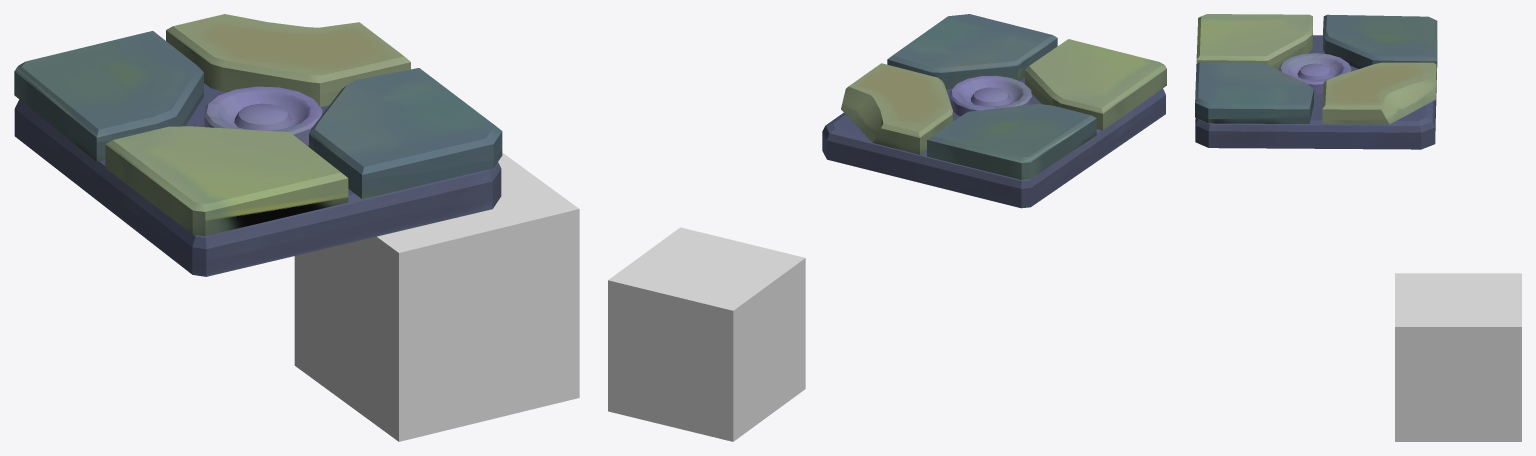
Rendered from battlescence-2-floor002.fbx.
The picture shows the model from 3 angles, left to right: view 1: azimuth 30°, elevation 25°; view 2: azimuth 150°, elevation 25°; view 3: azimuth 270°, elevation 25°; orthographic projection. The views are drawn at different scales.
Visible parts, largest first — view 1: Cube.068, battlescence-2-floor002; view 2: Cube.068, battlescence-2-floor002; view 3: Cube.068, battlescence-2-floor002.
Boxes of the visible parts, x1,y1,x2,y2 form: Cube.068: (14, 14, 502, 276); battlescence-2-floor002: (294, 152, 579, 441); Cube.068: (822, 14, 1166, 208); battlescence-2-floor002: (608, 227, 805, 441); Cube.068: (1195, 14, 1437, 149); battlescence-2-floor002: (1395, 273, 1521, 441).
Size of the model in its own units: 603 by 466 by 515.
